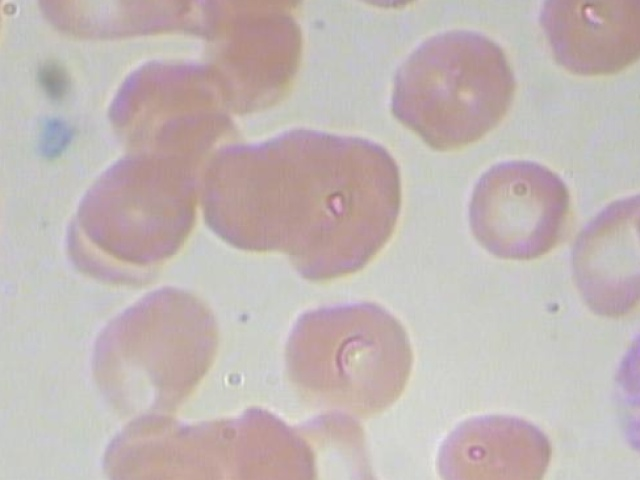Platelets: (30, 114, 94, 168)
RBC: (380, 20, 525, 158), (69, 138, 206, 269), (281, 297, 417, 428), (196, 132, 330, 256), (102, 276, 229, 391), (448, 154, 581, 262), (556, 186, 640, 322), (427, 405, 560, 480), (532, 0, 640, 84), (222, 6, 309, 91), (112, 447, 238, 480), (632, 169, 640, 277)
WBC: (581, 302, 640, 480)
